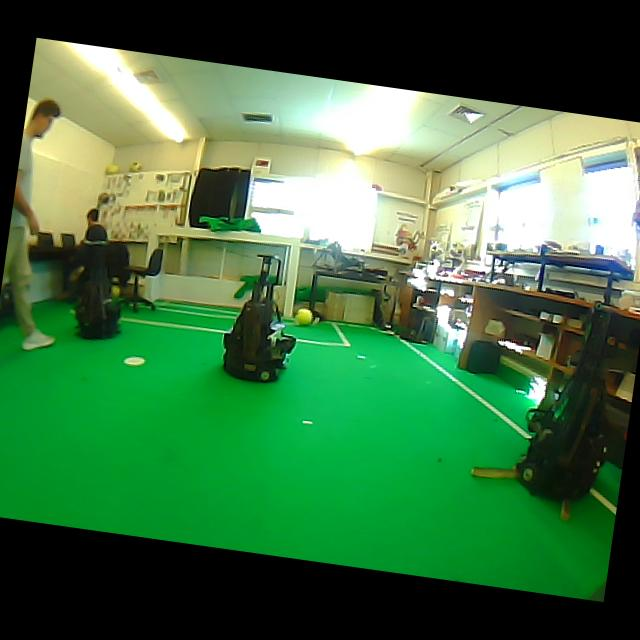ball: (295, 308, 312, 325), (105, 163, 119, 175), (129, 161, 142, 172), (110, 285, 121, 298)
robot: (517, 309, 611, 500), (223, 255, 295, 381), (75, 281, 121, 339)
